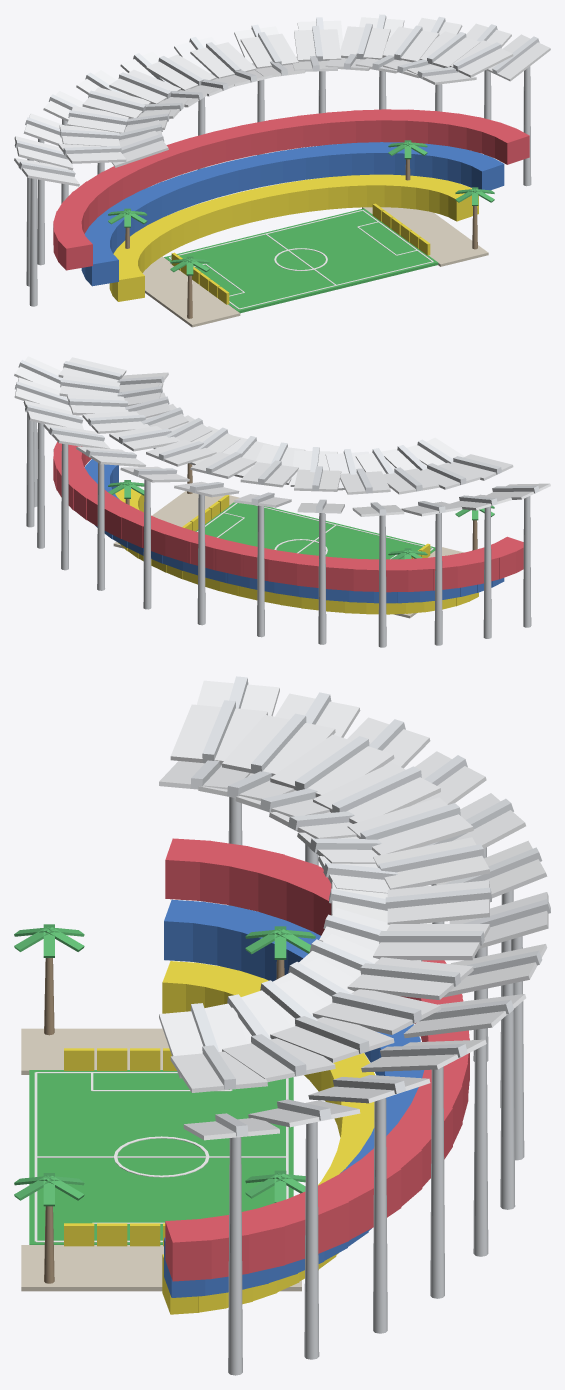
Rendered from SM_Stage_Metropolitano_CO.glb.
The picture shows the model from 3 angles, top to bottom: view 1: azimuth 30°, elevation 25°; view 2: azimuth 150°, elevation 25°; view 3: azimuth 270°, elevation 25°; orthographic projection. The views are drawn at different scales.
Parts seen in each view (by area): view 1: SM_Stage_Metropolitano_CO; view 2: SM_Stage_Metropolitano_CO; view 3: SM_Stage_Metropolitano_CO.
Boxes of the visible parts, x1=… form: SM_Stage_Metropolitano_CO: x1=14, y1=14, x2=550, y2=327; SM_Stage_Metropolitano_CO: x1=14, y1=356, x2=550, y2=647; SM_Stage_Metropolitano_CO: x1=14, y1=676, x2=550, y2=1375.
Bounding box in the file's own units: 65.37 × 18.18 × 32.5.
